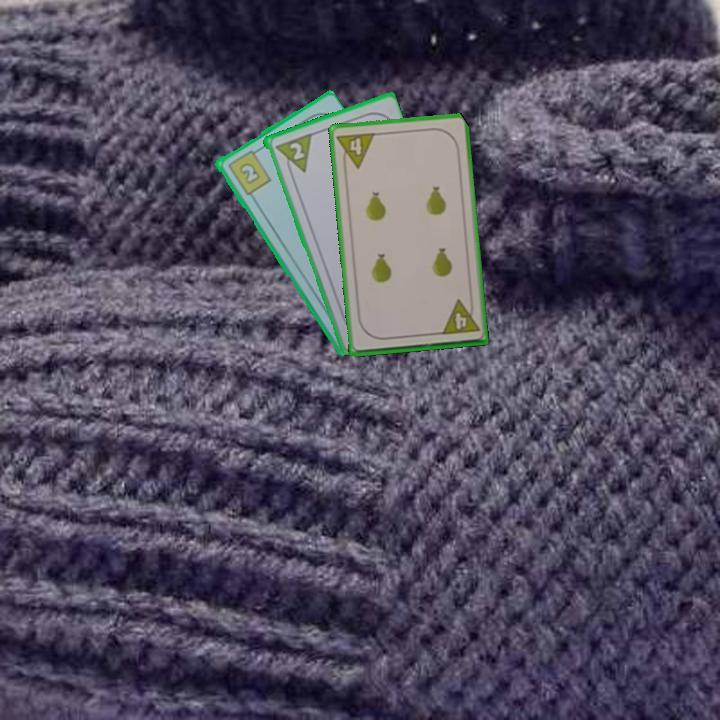2b: (223, 145, 273, 198)
2p: (285, 138, 307, 162)
4p: (333, 129, 378, 172), (438, 296, 482, 338)
